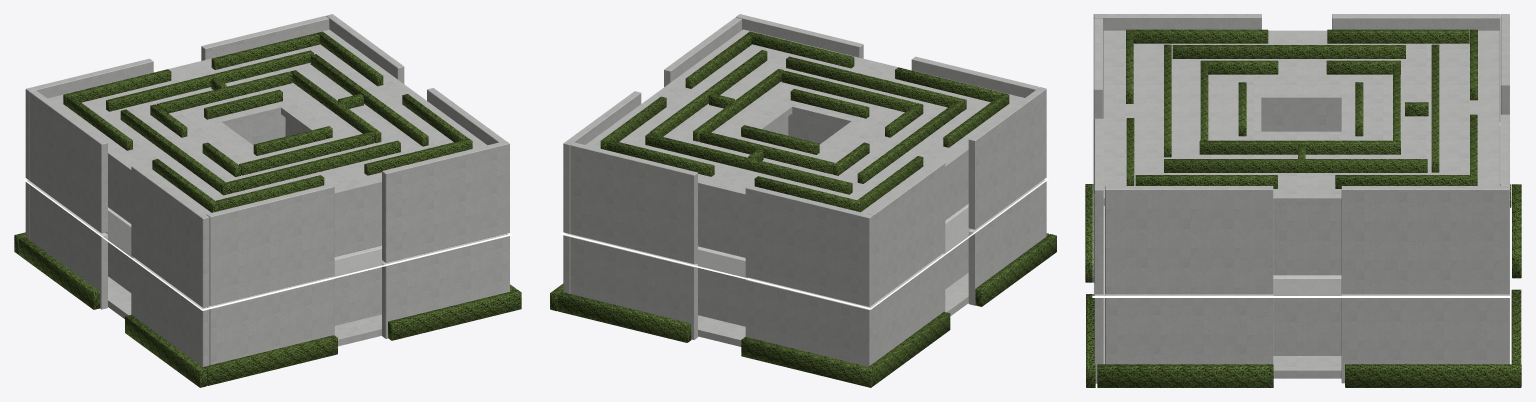
File: dcl MINOTAUR MAZE.glb
3 views of the same model, side by side, from view 1: azimuth 30°, elevation 25°; view 2: azimuth 150°, elevation 25°; view 3: azimuth 270°, elevation 25° (orthographic). The views are drawn at different scales.
Visible parts, largest first — view 1: Cube.003, Cube.002, Cube.007, Cube.005, Cube.010, Cube.004, Cube.008; view 2: Cube.003, Cube.002, Cube.007, Cube.005, Cube.010, Cube.004, Cube.008; view 3: Cube.003, Cube.005, Cube.002, Cube.007, Cube.010, Cube.004, Cube.008.
Boxes of the visible parts, left/top/right/bottom form: Cube.003: left=25, top=14, right=509, bottom=307; Cube.002: left=25, top=180, right=509, bottom=367; Cube.007: left=63, top=31, right=472, bottom=212; Cube.005: left=48, top=29, right=486, bottom=214; Cube.010: left=14, top=232, right=521, bottom=387; Cube.004: left=24, top=178, right=512, bottom=310; Cube.008: left=108, top=276, right=381, bottom=346; Cube.003: left=563, top=14, right=1046, bottom=306; Cube.002: left=563, top=180, right=1046, bottom=366; Cube.007: left=600, top=31, right=1009, bottom=212; Cube.005: left=586, top=29, right=1024, bottom=213; Cube.010: left=550, top=233, right=1056, bottom=387; Cube.004: left=561, top=177, right=1048, bottom=309; Cube.008: left=698, top=272, right=968, bottom=346; Cube.003: left=1093, top=14, right=1509, bottom=294; Cube.005: left=1103, top=30, right=1499, bottom=205; Cube.002: left=1093, top=122, right=1509, bottom=383; Cube.007: left=1126, top=29, right=1477, bottom=188; Cube.010: left=1085, top=184, right=1521, bottom=387; Cube.004: left=1092, top=118, right=1510, bottom=297; Cube.008: left=1103, top=206, right=1341, bottom=378.
Size of what is drawn, in the model's own units: 32.96 by 16.17 by 32.96.
Materials: 5 (2 with a texture image).
